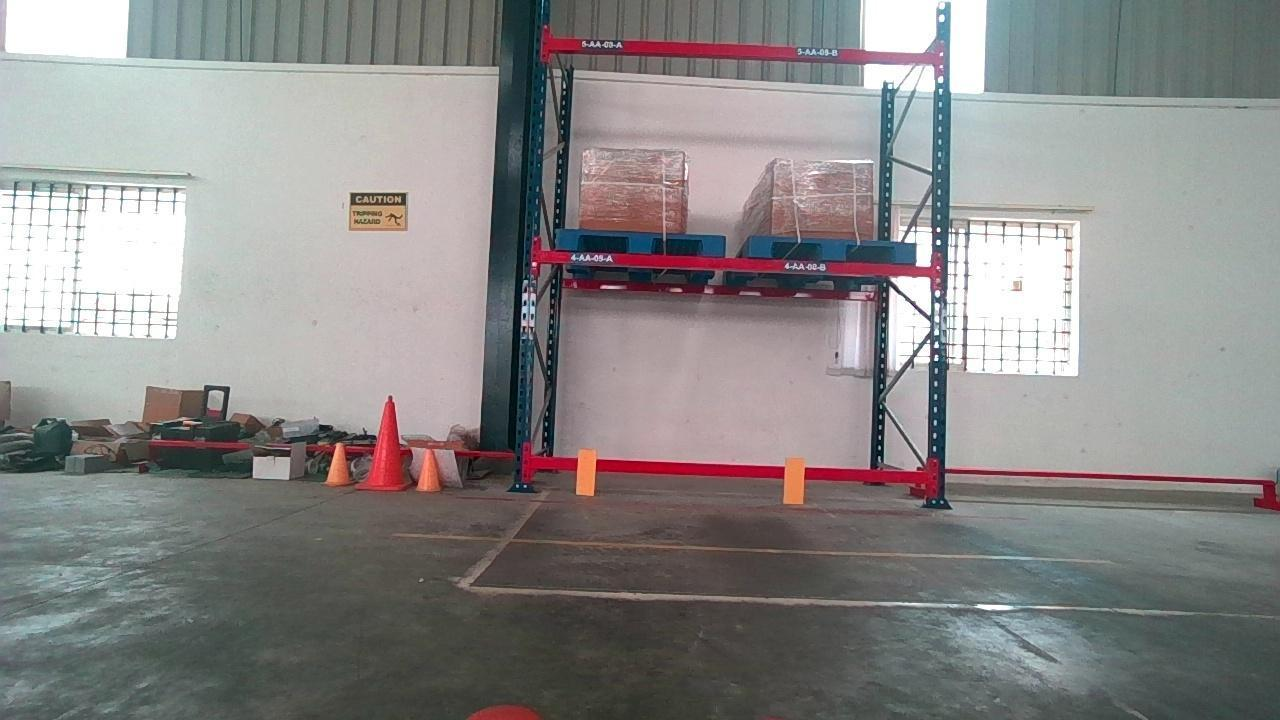h_rack: (539, 251, 934, 277), (524, 457, 933, 482), (549, 39, 937, 65)
orange_strip: (784, 458, 805, 505), (577, 448, 597, 495)
small_pallet: (744, 237, 916, 265), (553, 230, 728, 253)
yellow_line: (397, 531, 1114, 564)
